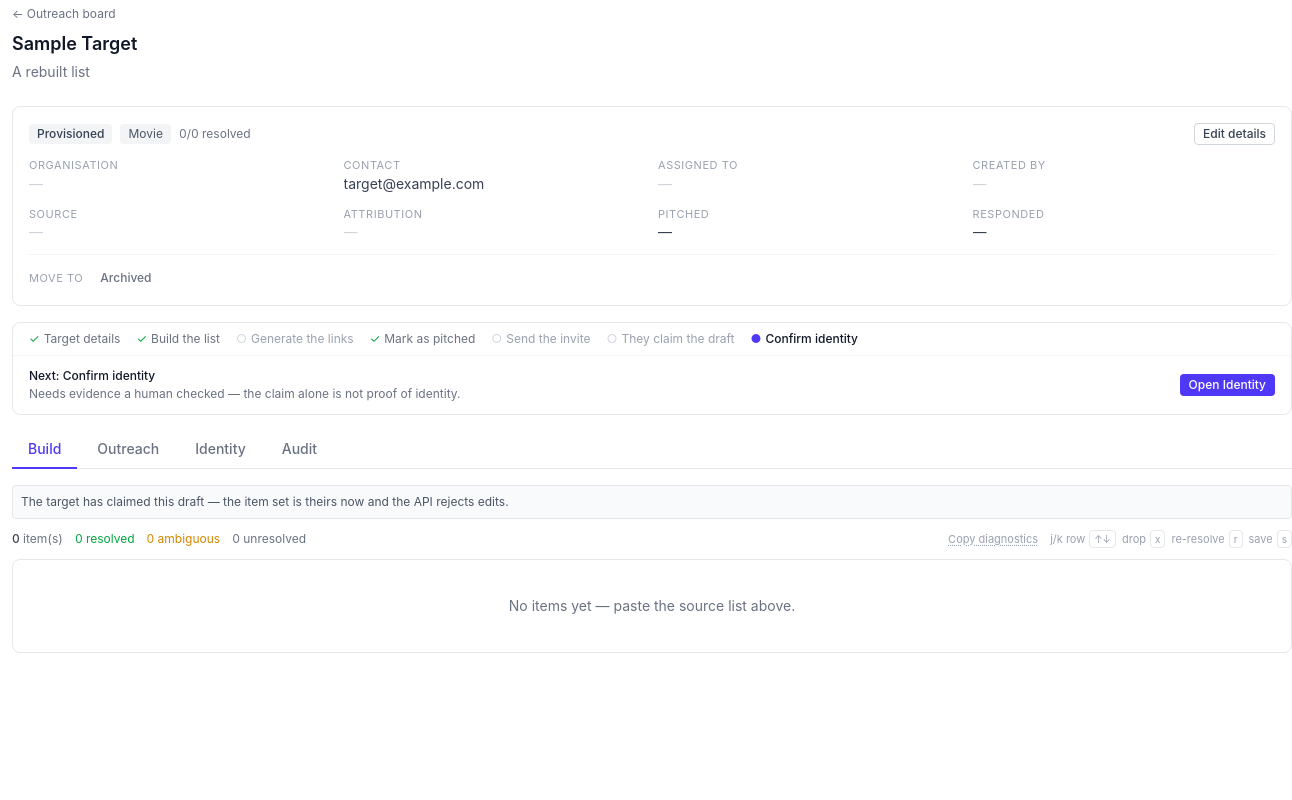
Test: pitch detail — identity confirmation (invariant 3) › offers it once the target has claimed the draft
The image size is (1292, 800).
Expected: the text "A rebuilt list" is shown, [12,63,90,80]
Step 1. Click the button "Identity" → click(220, 450), box [179,431,262,469]
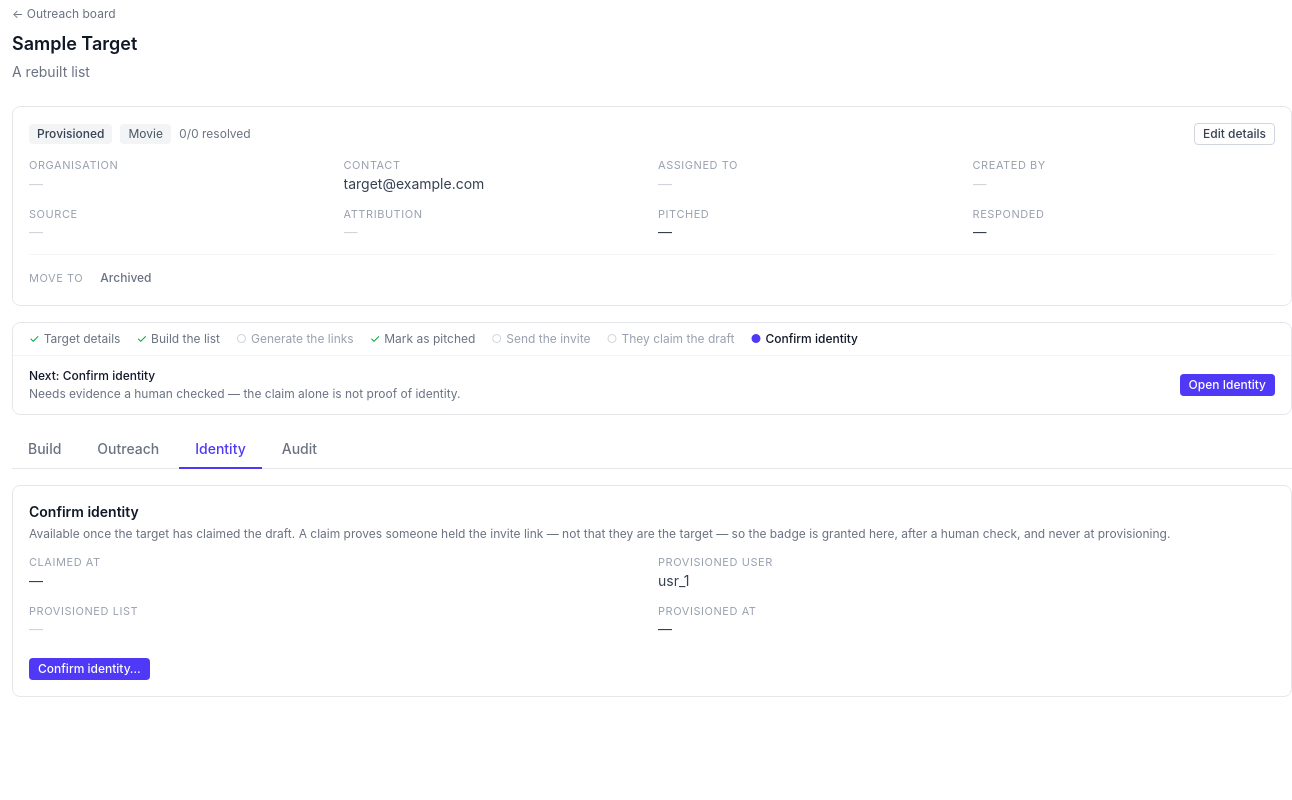
Expected: the button "Confirm identity…" is enabled, [29,658,150,680]
